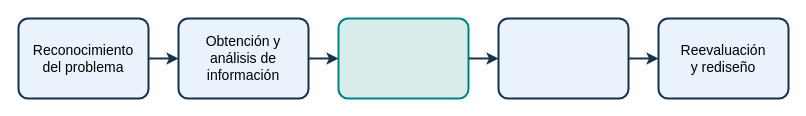
The diagram is 806 pixels wide and 116 high, and some of its shapes have lost their labels. The shapes that lost their labels are listed below. From the top down, each one's centre as x and y in pixels, then its label:
the point at 403,58: Evaluación de alternativas (matriz de Pugh)
the point at 563,58: Implementación
